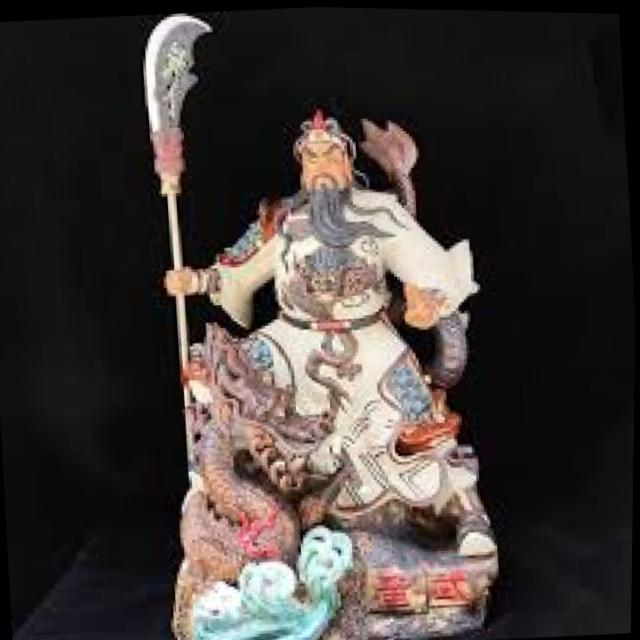Guan Yu: (152, 99, 471, 535)
